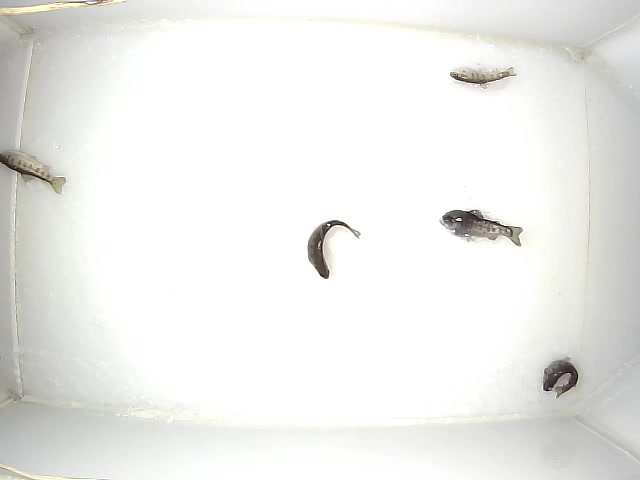fish: (439, 209, 523, 247), (308, 220, 361, 279), (1, 149, 66, 194), (543, 357, 578, 399), (450, 67, 517, 84)
